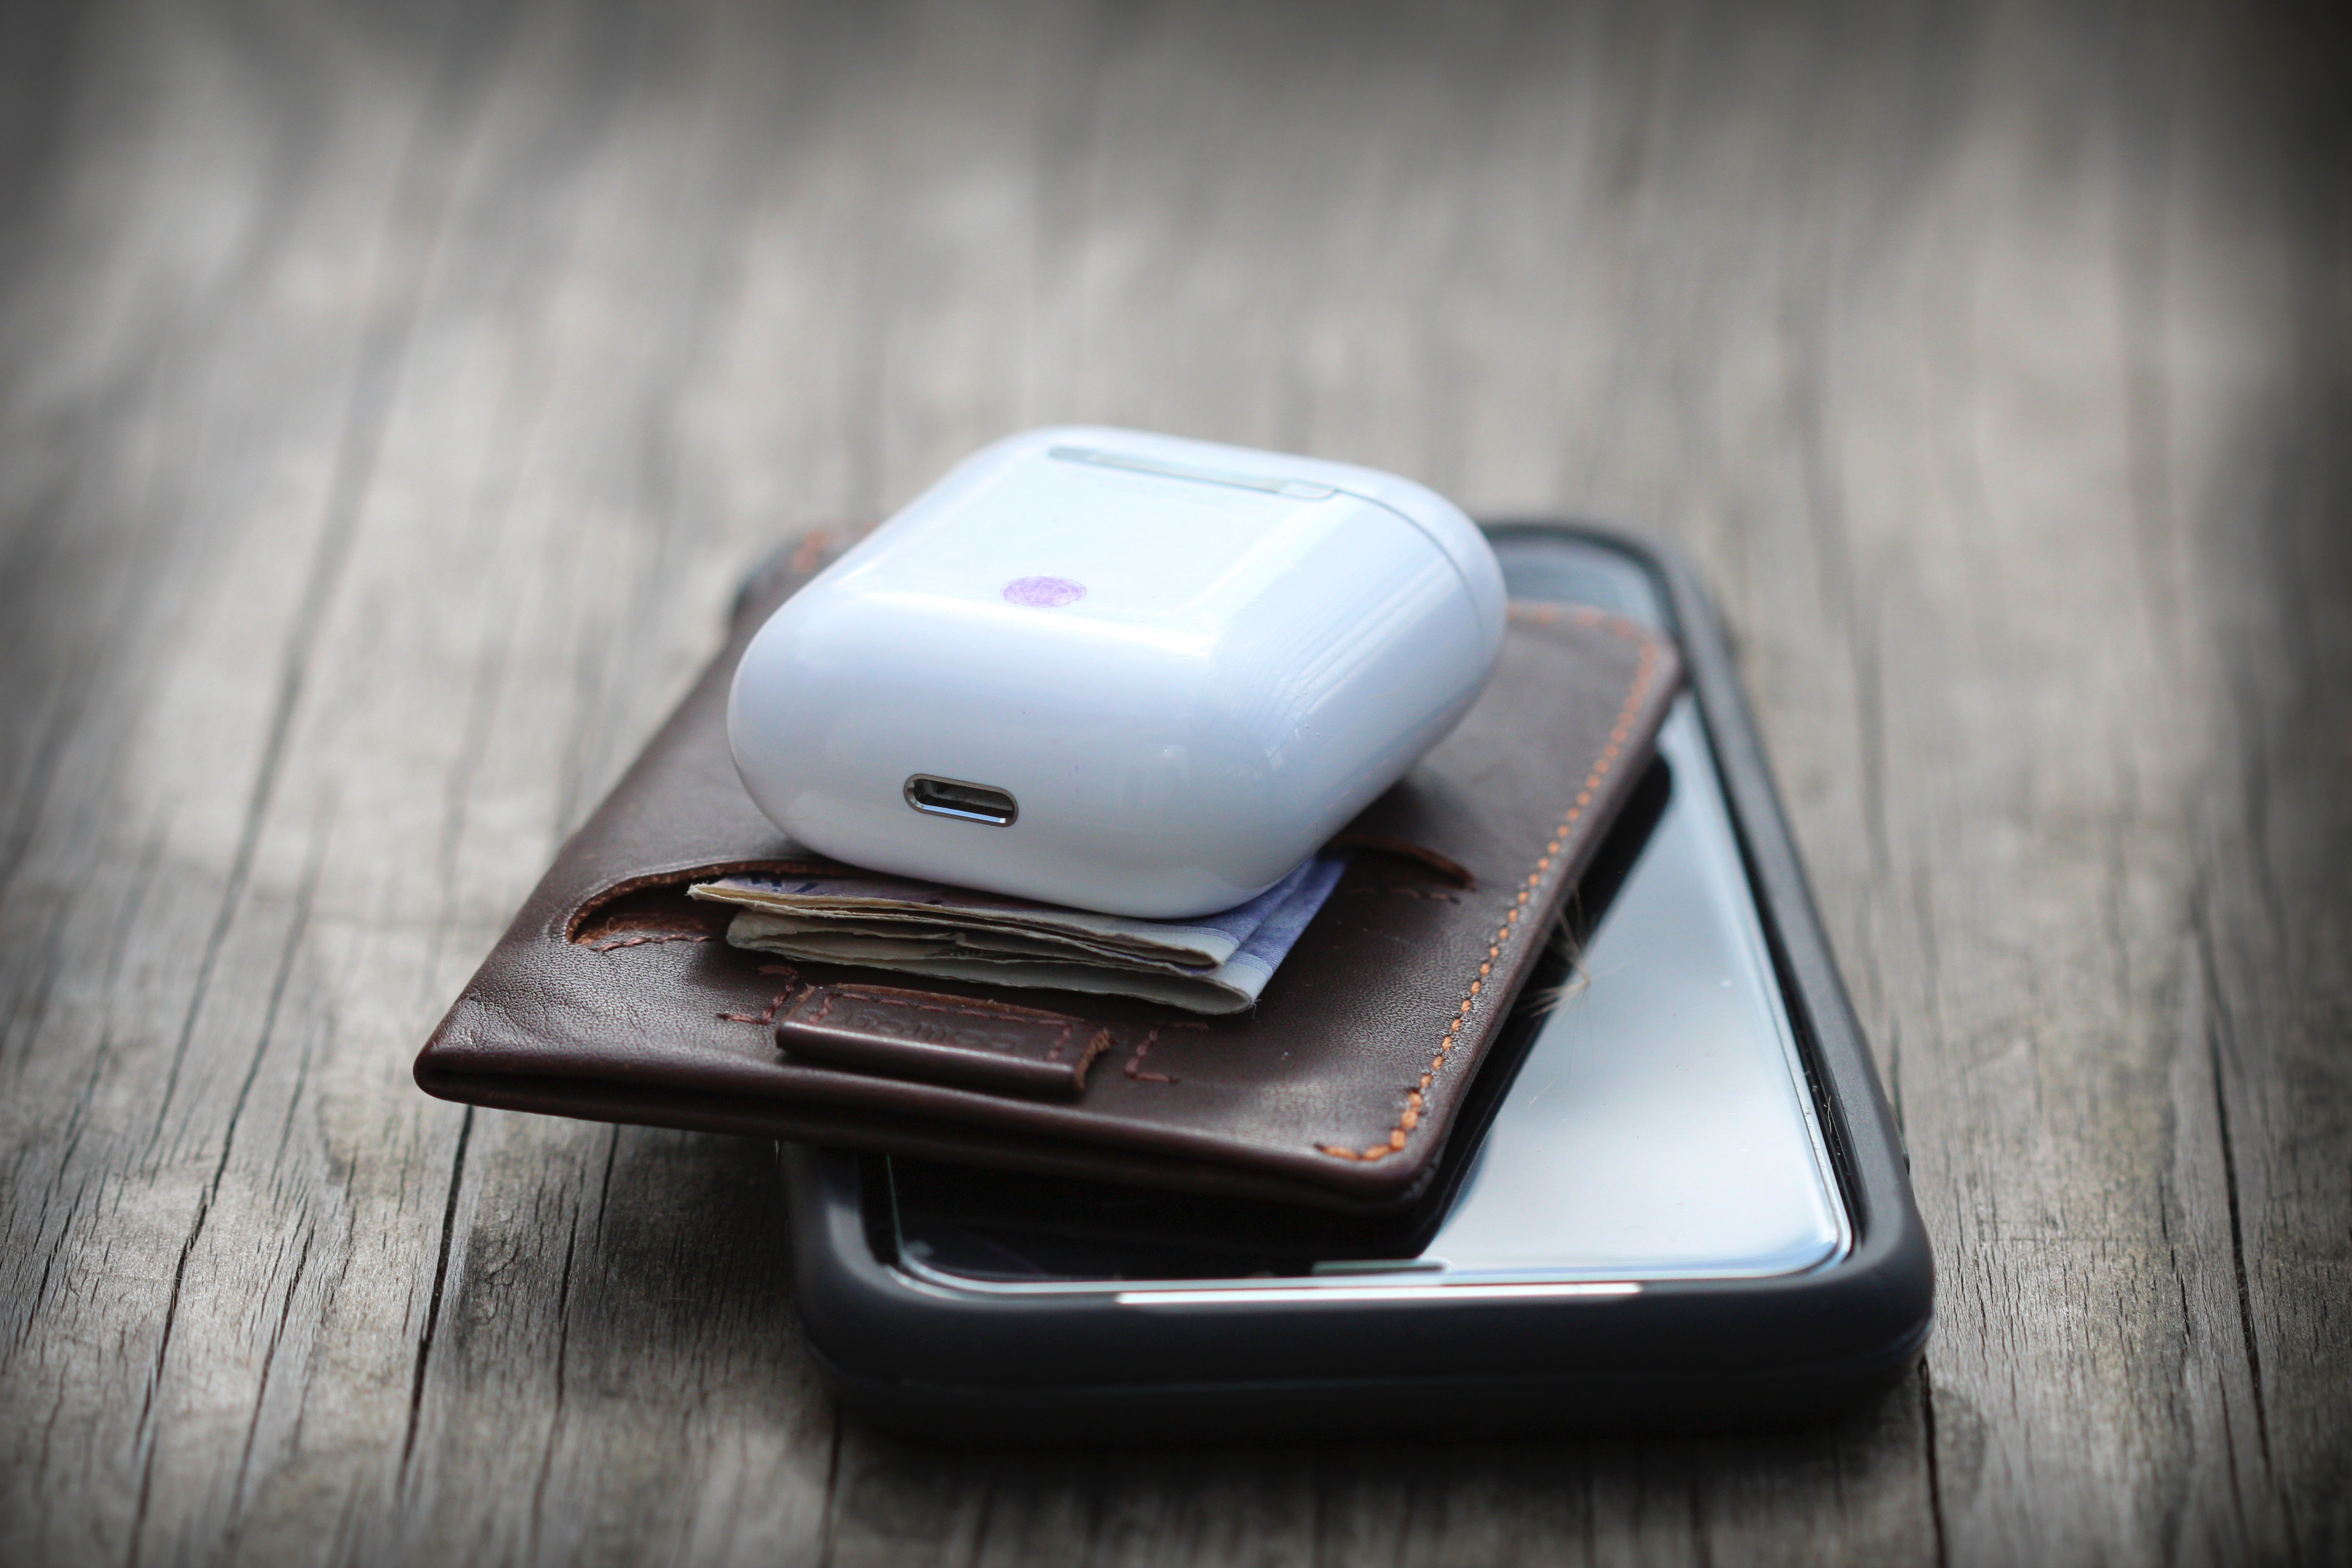airpods: (710, 411, 1522, 929)
